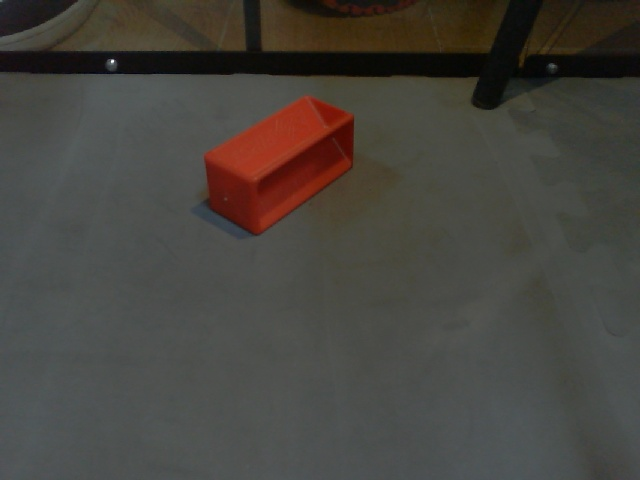RedSample: (202, 96, 360, 237)
